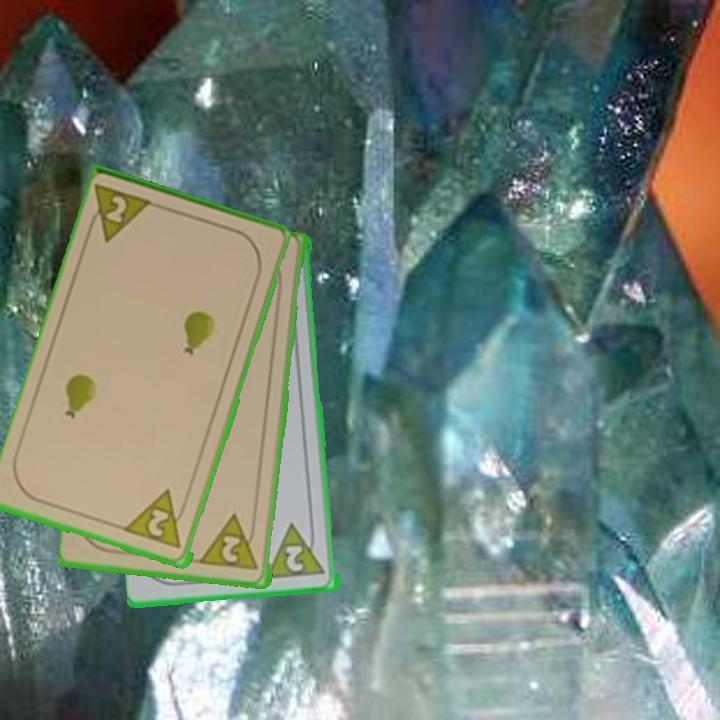2p: (123, 486, 190, 553), (265, 519, 330, 582), (199, 512, 262, 574), (102, 192, 131, 227)
